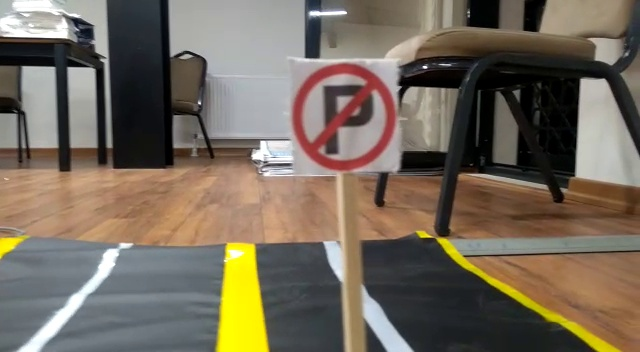park_yapilmaz: (289, 57, 401, 170)
